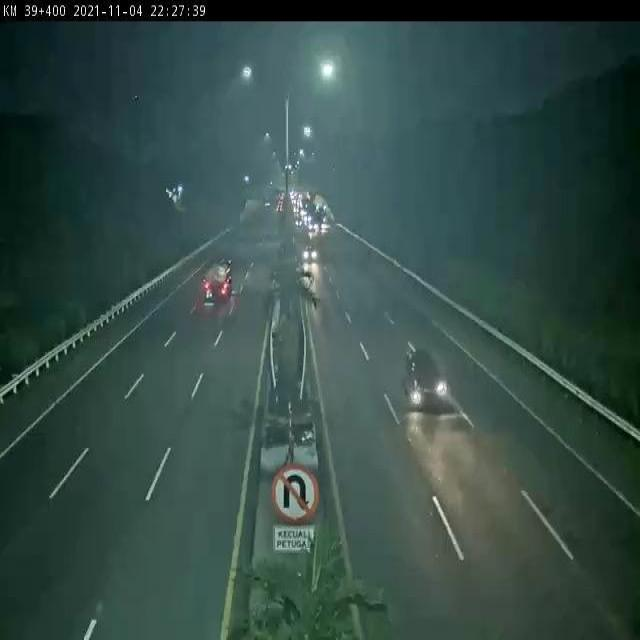car: (403, 340, 446, 415)
mid truck: (202, 260, 232, 303)
